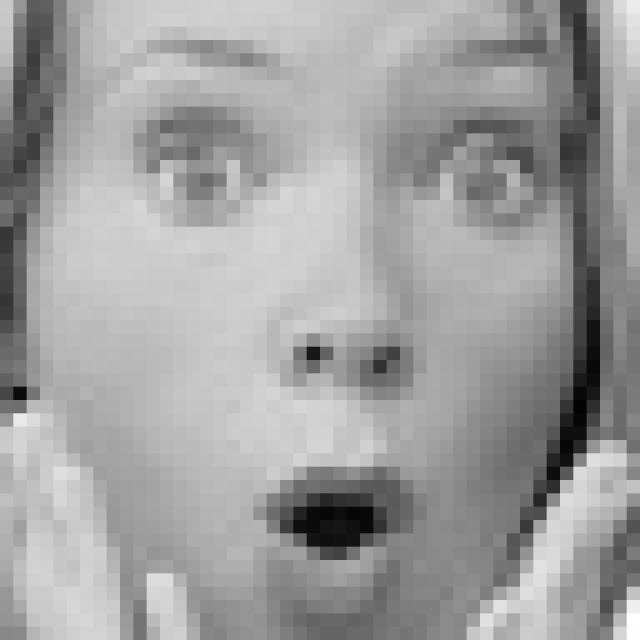surprise: (88, 22, 572, 625)
